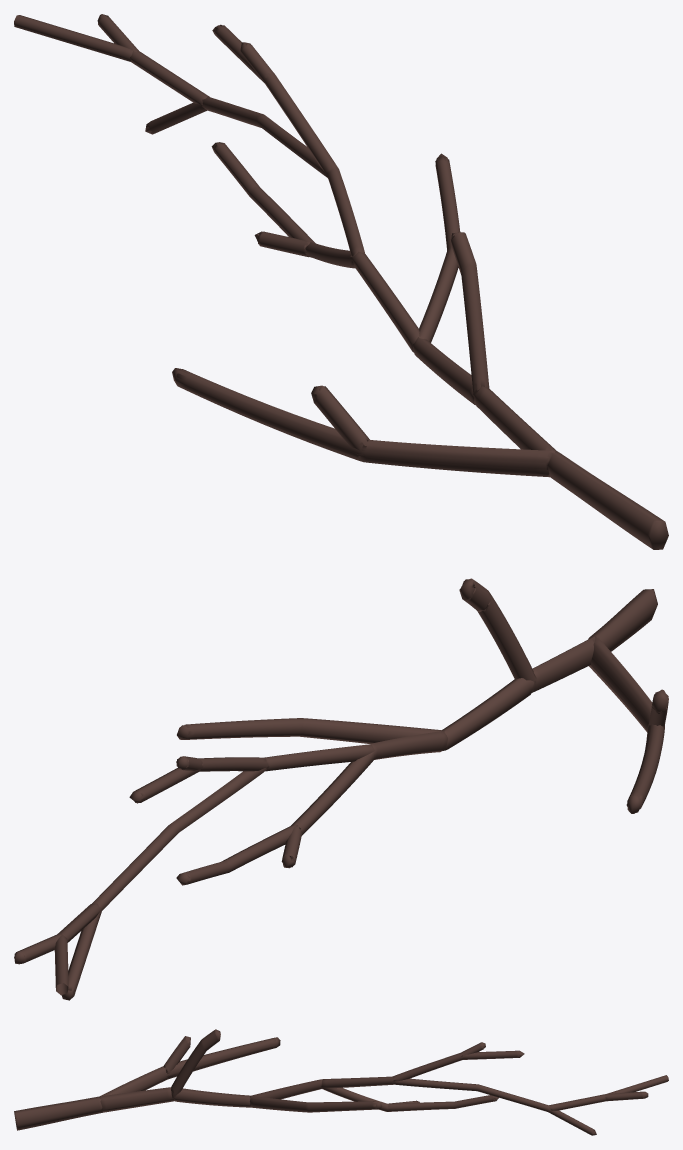
The model's file is Branch 1.fbx.
The picture shows the model from 3 angles, top to bottom: view 1: azimuth 30°, elevation 25°; view 2: azimuth 150°, elevation 25°; view 3: azimuth 270°, elevation 25°; orthographic projection. The views are drawn at different scales.
Parts seen in each view (by area): view 1: Branch 1; view 2: Branch 1; view 3: Branch 1.
Boxes of the visible parts, x1,y1,x2,y2 form: Branch 1: [14, 14, 668, 549]; Branch 1: [14, 578, 668, 1000]; Branch 1: [14, 1029, 668, 1135].
Bounding box in the file's own units: 1.82 × 0.8642 × 5.28.
